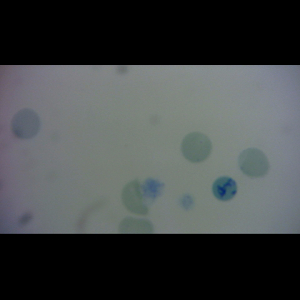aggregate reticulocyte: (211, 176, 239, 202)
erythrocyte: (120, 178, 151, 217), (9, 107, 41, 141)
punctate reticulocyte: (180, 132, 213, 163), (237, 147, 269, 178)
